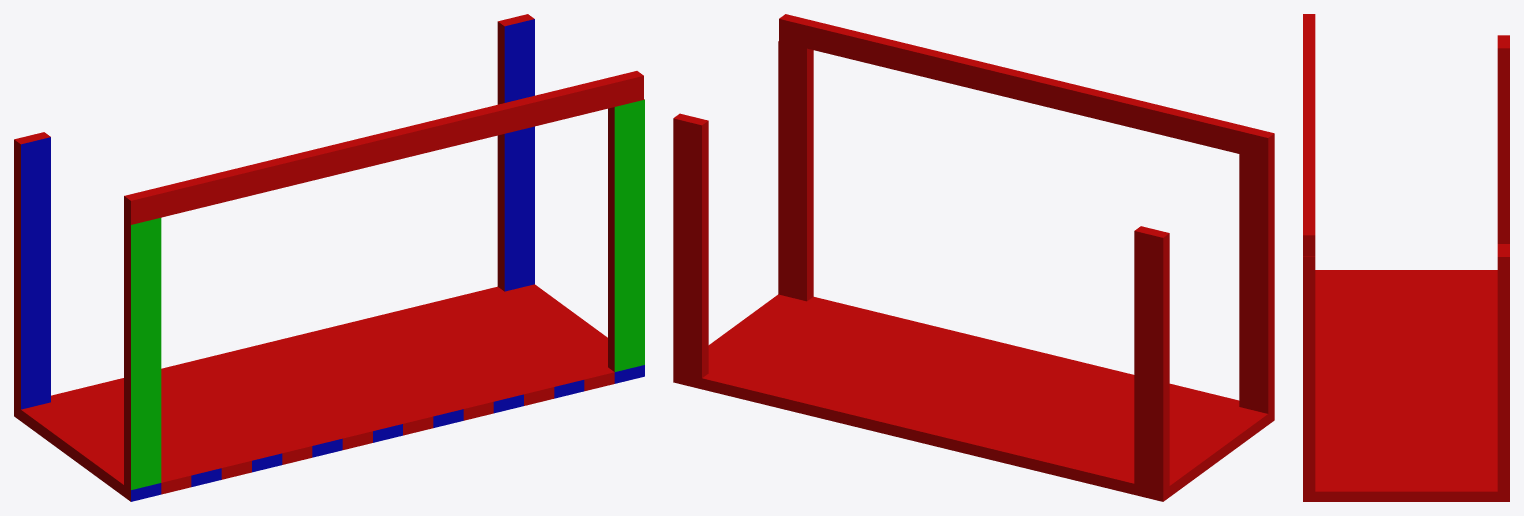
Rendered from Test_Stage_01.dae.
The picture shows the model from 3 angles, left to right: view 1: azimuth 30°, elevation 25°; view 2: azimuth 150°, elevation 25°; view 3: azimuth 270°, elevation 25°; orthographic projection. The views are drawn at different scales.
Parts seen in each view (by area): view 1: pCube2; view 2: pCube2; view 3: pCube2.
Part boxes in pixels (x1,y1,x2,y2): pCube2: (14,14,644,501); pCube2: (673,14,1274,501); pCube2: (1303,14,1509,501).
Bounding box in the file's own units: 80.85 × 45.25 × 31.87.
